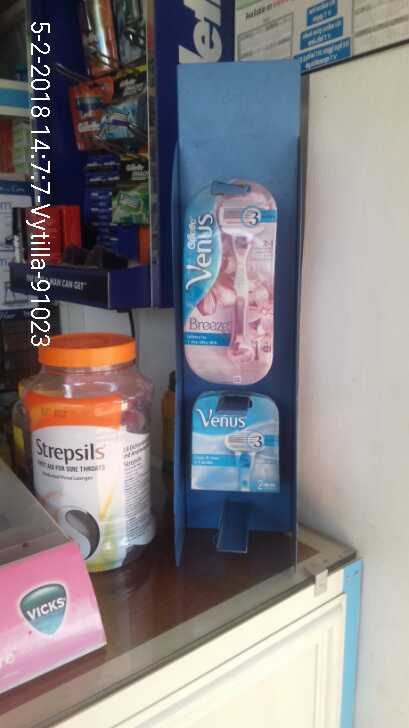venus: (175, 175, 285, 390), (182, 382, 287, 496)
